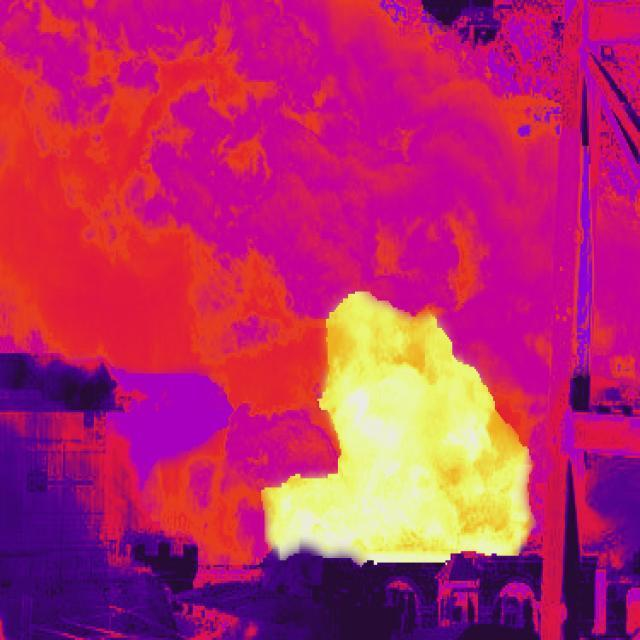fire: (264, 290, 541, 561)
